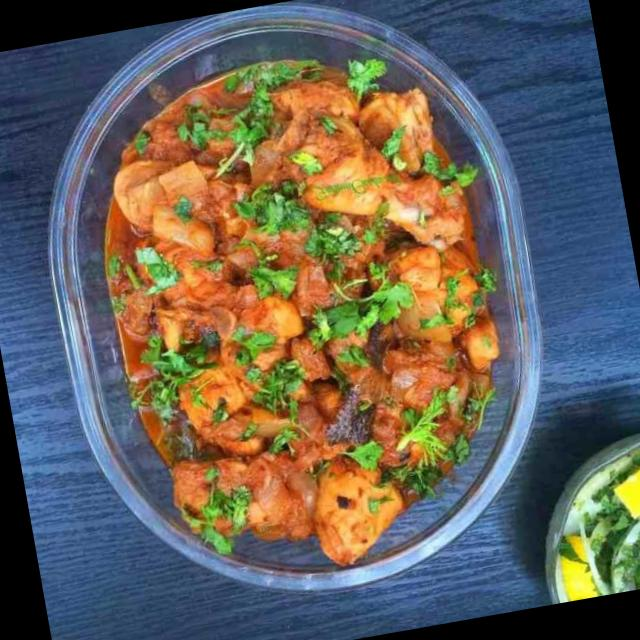chicken: (117, 48, 490, 534)
